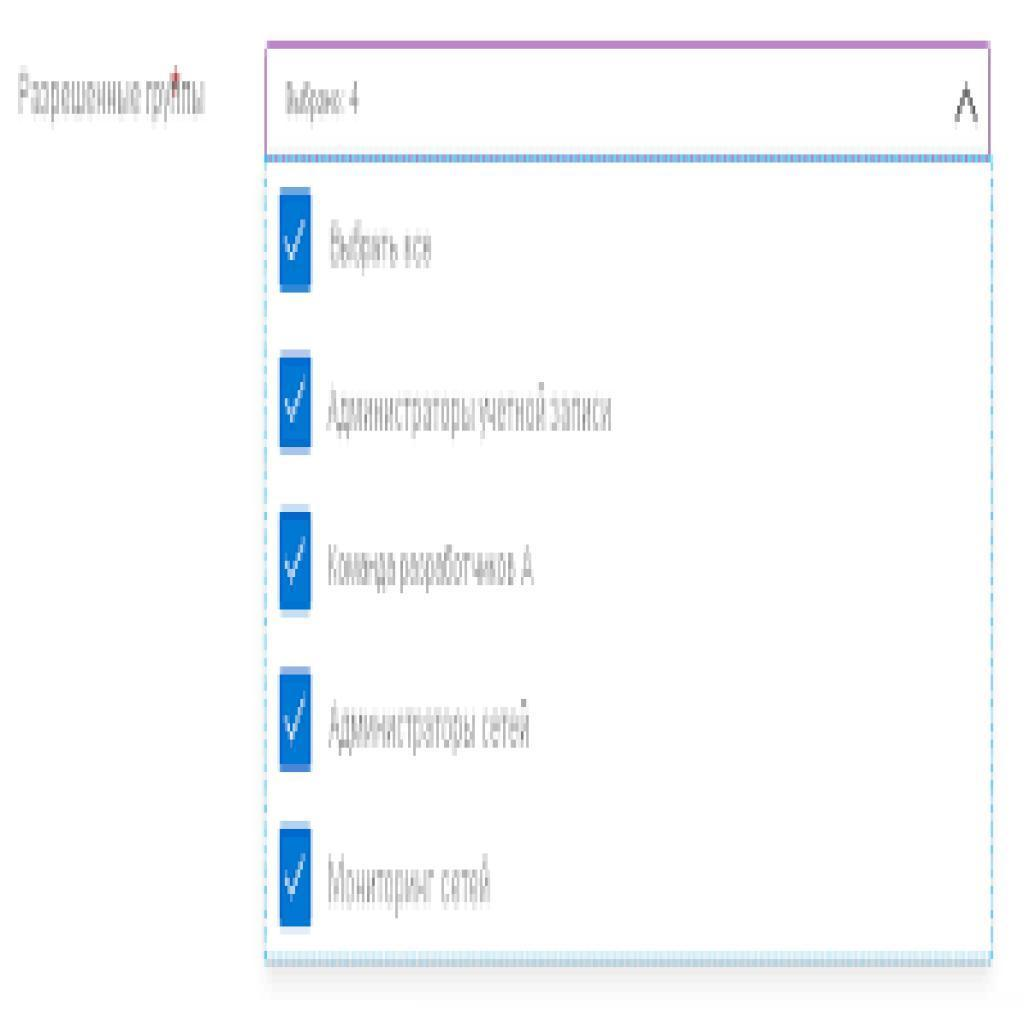checkbox: (280, 826, 314, 931), (279, 511, 314, 610), (280, 676, 313, 771), (280, 191, 313, 277), (279, 358, 311, 446)
dropdown: (266, 45, 990, 163)
